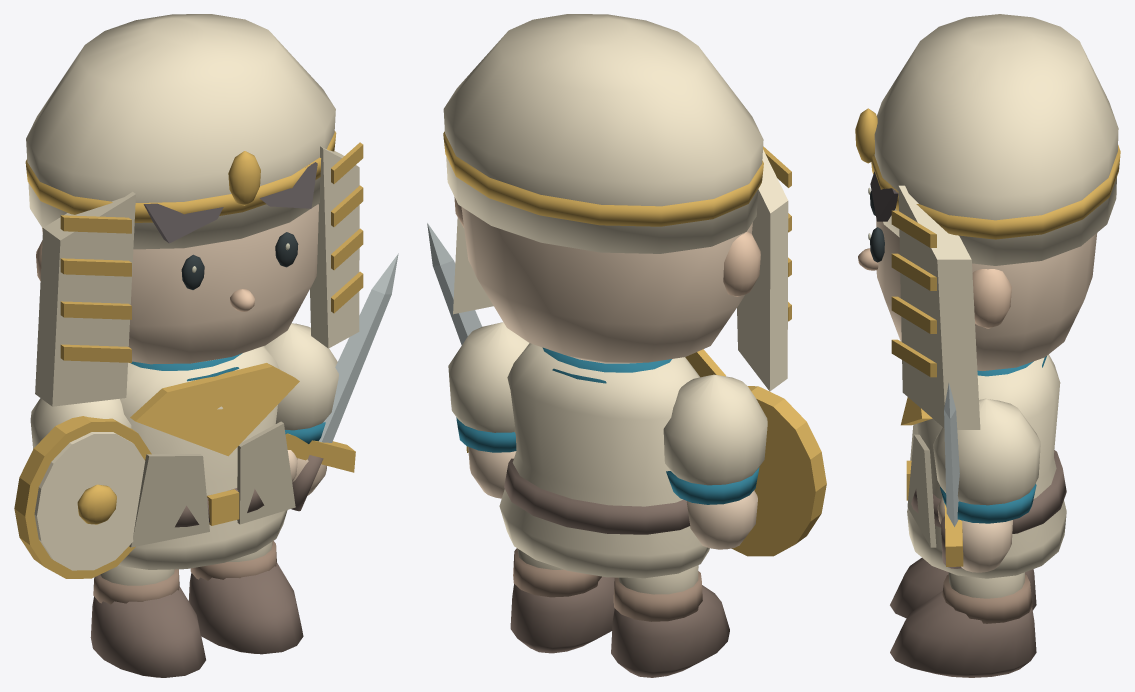
File: warrior.glb
3 views of the same model, side by side, from view 1: azimuth 30°, elevation 25°; view 2: azimuth 150°, elevation 25°; view 3: azimuth 270°, elevation 25° (orthographic). The views are drawn at different scales.
Visible parts, largest first — view 1: Striped nemes crown, Soft cheek head, Nemes shoulder wing, Short folded tunic, Regional shield face, Broad gold collar, Round leather boot, Round leather boot.001, Nemes shoulder wing.001, Coat fold, Shield gold rim, Puff sleeve.001 (+25 smaller); view 2: Striped nemes crown, Short folded tunic, Soft cheek head, Puff sleeve, Shield gold rim, Nemes shoulder wing, Nemes front band, Round leather boot, Puff sleeve.001, Round leather boot.001, Broad leather belt, Little mitten (+11 smaller); view 3: Striped nemes crown, Nemes shoulder wing.001, Soft cheek head, Short folded tunic, Round leather boot.001, Puff sleeve.001, Nemes front band, Little mitten.001, Boot turn cuff.001, Round leather boot, Coat fold.001, Ear.001 (+13 smaller).
Part boxes in pixels (<box>): Striped nemes crown: <box>26,14,335,249</box>; Soft cheek head: <box>42,204,318,364</box>; Nemes shoulder wing: <box>35,191,135,406</box>; Short folded tunic: <box>118,346,287,569</box>; Regional shield face: <box>34,432,145,570</box>; Broad gold collar: <box>130,363,299,456</box>; Round leather boot: <box>90,586,205,677</box>; Round leather boot.001: <box>188,562,303,654</box>; Nemes shoulder wing.001: <box>310,146,359,348</box>; Coat fold: <box>129,454,209,547</box>; Shield gold rim: <box>14,416,151,578</box>; Puff sleeve.001: <box>264,323,338,430</box>; Striped nemes crown: <box>443,14,763,253</box>; Short folded tunic: <box>499,343,709,578</box>; Soft cheek head: <box>461,207,752,363</box>; Puff sleeve: <box>663,374,767,485</box>; Shield gold rim: <box>731,386,826,556</box>; Nemes shoulder wing: <box>737,149,788,391</box>; Nemes front band: <box>443,131,763,226</box>; Round leather boot: <box>611,585,729,677</box>; Puff sleeve.001: <box>448,322,529,432</box>; Round leather boot.001: <box>510,576,614,653</box>; Broad leather belt: <box>504,458,690,534</box>; Little mitten: <box>686,490,757,549</box>; Striped nemes crown: <box>874,14,1118,265</box>; Nemes shoulder wing.001: <box>898,185,980,429</box>; Soft cheek head: <box>876,219,1097,370</box>; Short folded tunic: <box>907,354,1066,578</box>; Round leather boot.001: <box>890,591,1036,677</box>; Puff sleeve.001: <box>933,398,1040,505</box>; Nemes front band: <box>871,145,1120,239</box>; Little mitten.001: <box>961,520,1012,572</box>; Boot turn cuff.001: <box>942,574,1032,623</box>; Round leather boot: <box>890,558,1036,618</box>; Coat fold.001: <box>907,434,936,547</box>; Ear.001: <box>972,269,1011,328</box>.
Size of the model in its own units: 1.02 by 1.54 by 0.615.
